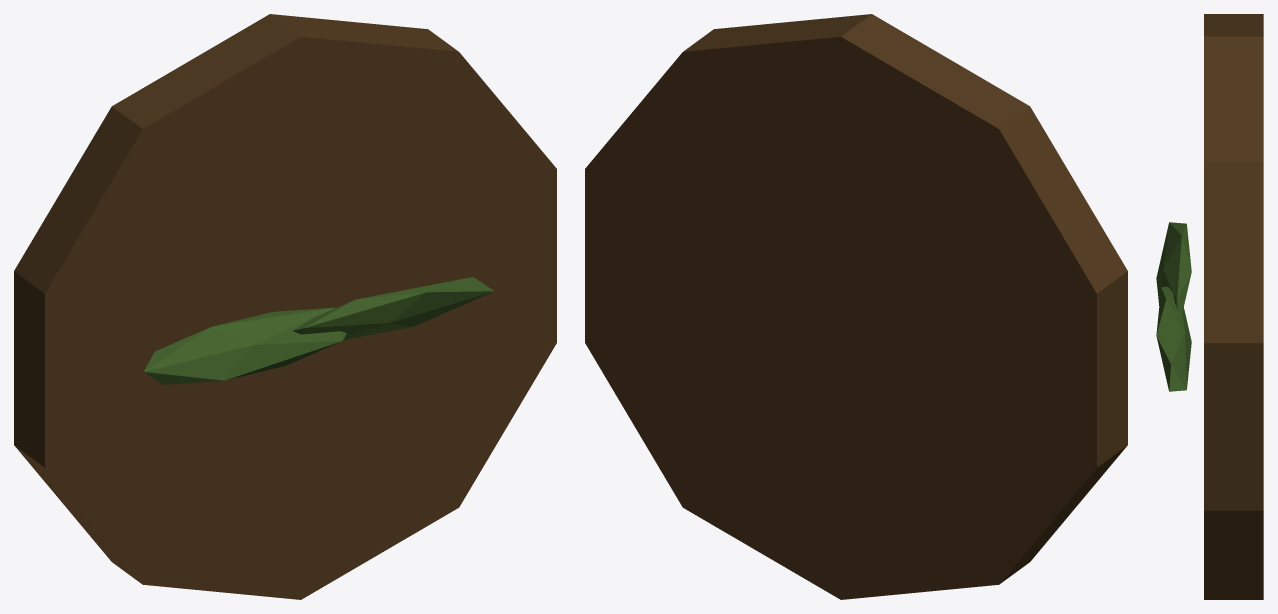
Rendered from 1_seedling.obj.
3 views of the same model, side by side, from view 1: azimuth 30°, elevation 25°; view 2: azimuth 150°, elevation 25°; view 3: azimuth 270°, elevation 25° (orthographic). The views are drawn at different scales.
Visible parts, largest first — view 1: sunflower_1_seedling; view 2: sunflower_1_seedling; view 3: sunflower_1_seedling.
Part boxes in pixels (<box>): sunflower_1_seedling: <box>14,14,556,599</box>; sunflower_1_seedling: <box>585,14,1127,599</box>; sunflower_1_seedling: <box>1156,14,1263,599</box>.
Size of the model in its own units: 0.1902 by 0.2 by 0.0359.
